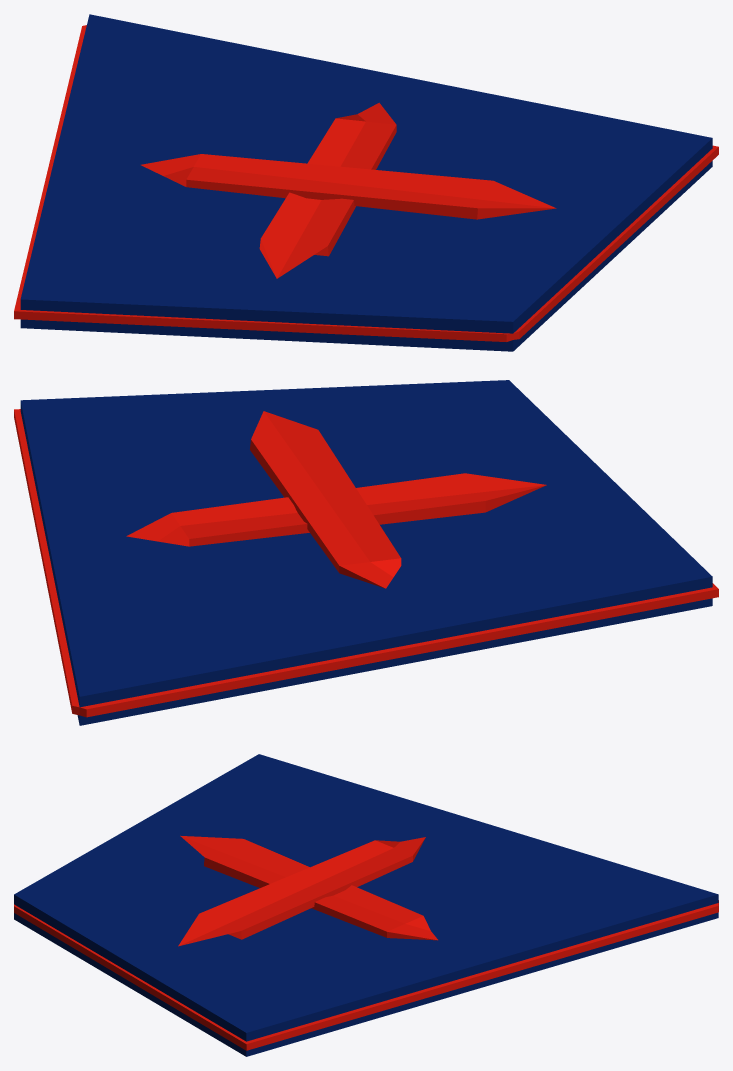
File: Laser (1).fbx
The picture shows the model from 3 angles, top to bottom: view 1: azimuth 30°, elevation 25°; view 2: azimuth 150°, elevation 25°; view 3: azimuth 270°, elevation 25°; orthographic projection. The views are drawn at different scales.
Parts seen in each view (by area): view 1: Cube, X 2, X 1; view 2: Cube, X 2, X 1; view 3: Cube, X 2, X 1.
Part boxes in pixels (left/top/right/bottom): Cube: left=14, top=14, right=718, bottom=351; X 2: left=141, top=154, right=556, bottom=219; X 1: left=259, top=102, right=396, bottom=278; Cube: left=14, top=380, right=718, bottom=725; X 2: left=250, top=411, right=401, bottom=588; X 1: left=126, top=473, right=546, bottom=546; Cube: left=14, top=754, right=718, bottom=1056; X 2: left=178, top=837, right=425, bottom=946; X 1: left=180, top=835, right=437, bottom=940.
Size of the model in its own units: 196 by 11.76 by 205.
